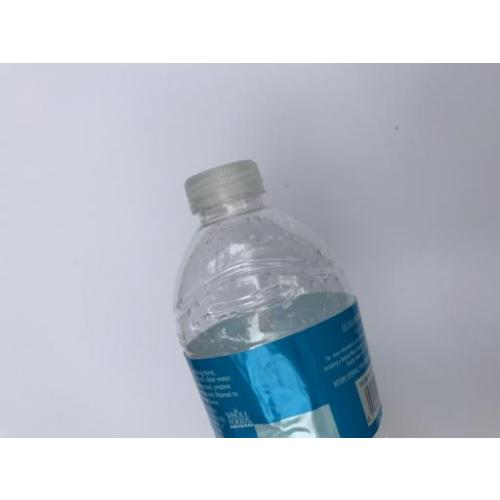plastic: (173, 159, 391, 436)
